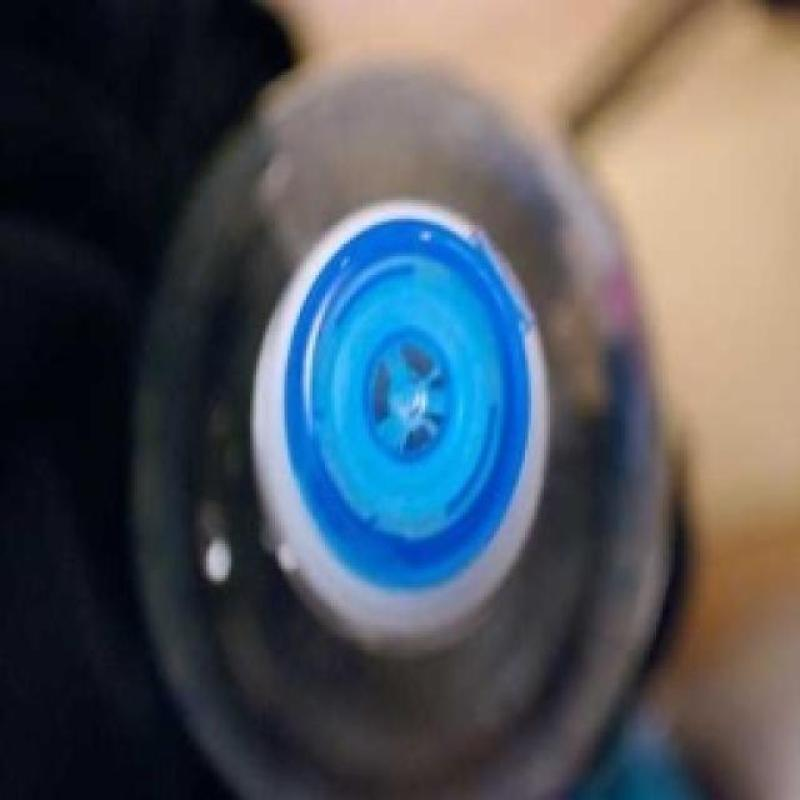botella: (127, 46, 672, 800)
